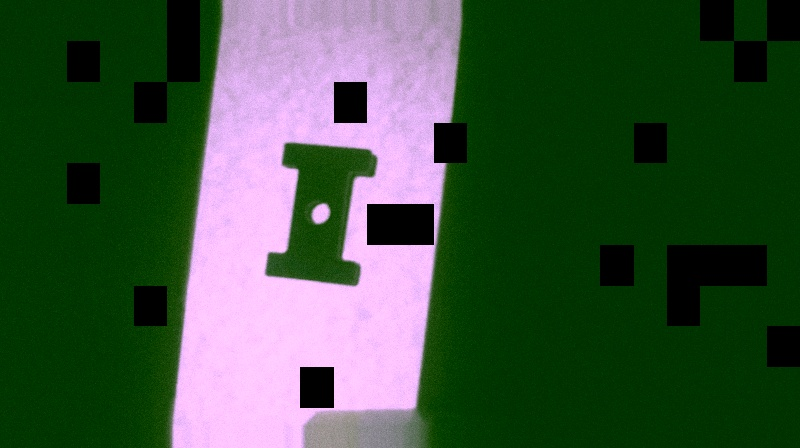O002: (260, 138, 377, 288)
